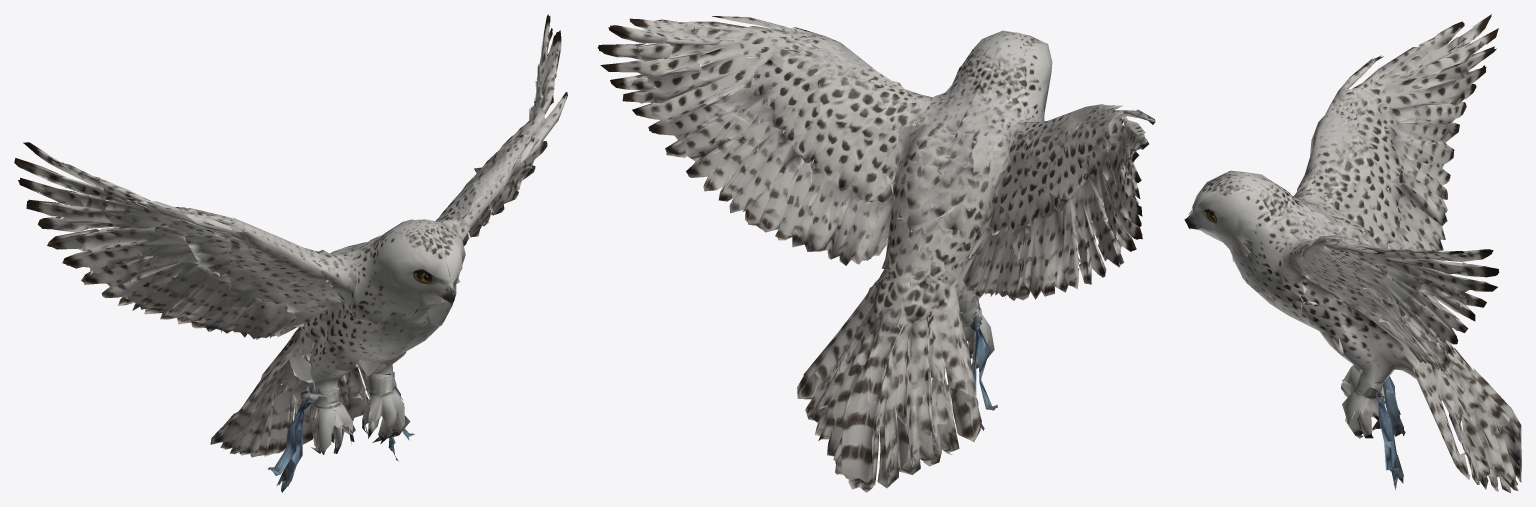
File: PetOwl.fbx
3 views of the same model, side by side, from view 1: azimuth 30°, elevation 25°; view 2: azimuth 150°, elevation 25°; view 3: azimuth 270°, elevation 25° (orthographic). The views are drawn at different scales.
Parts seen in each view (by area): view 1: PetOwl_Body; view 2: PetOwl_Body; view 3: PetOwl_Body.
Part boxes in pixels (bbox=[...]): PetOwl_Body: bbox=[14, 14, 567, 492]; PetOwl_Body: bbox=[597, 16, 1155, 492]; PetOwl_Body: bbox=[1184, 14, 1521, 492].
Bounding box in the file's own units: 0.7279 × 0.5 × 0.4294.
Materials: 1 (1 with a texture image).
